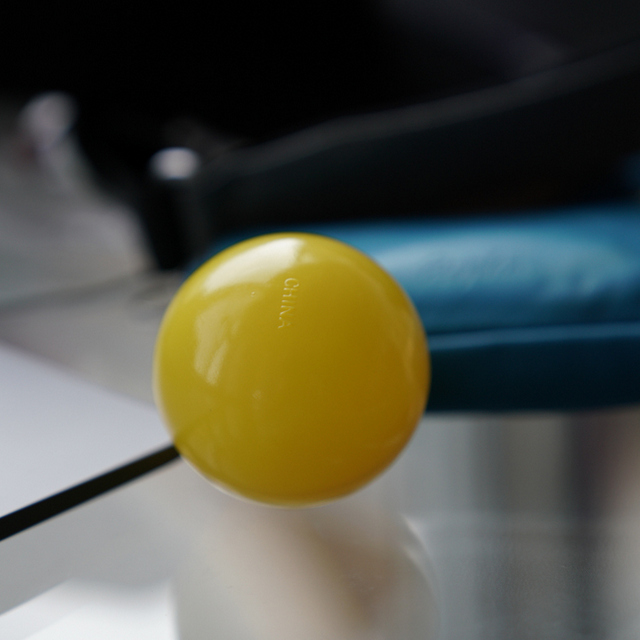Ball: (150, 228, 434, 500)
